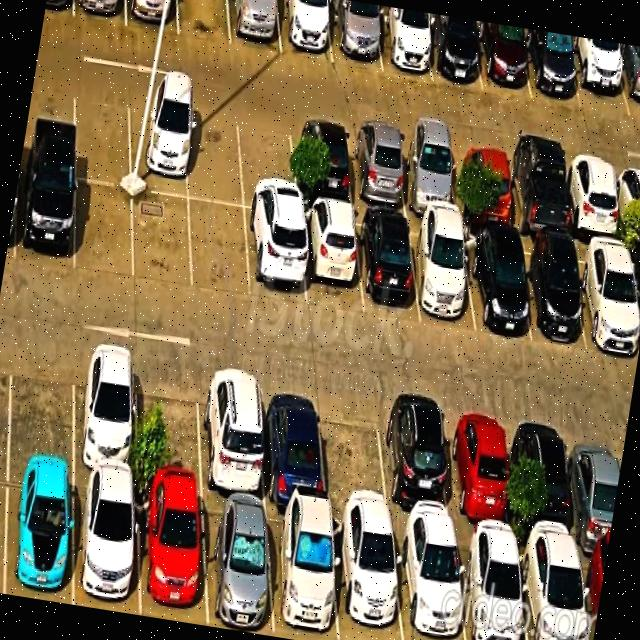empty: (187, 200, 249, 287), (131, 195, 189, 282), (73, 184, 131, 271), (185, 119, 244, 203), (74, 98, 131, 177), (239, 131, 297, 205), (23, 87, 78, 163), (176, 0, 230, 41)
occupied: (327, 522, 403, 640), (266, 519, 340, 636), (391, 533, 468, 640), (202, 514, 275, 624), (71, 494, 142, 605), (197, 404, 265, 519), (69, 382, 141, 489), (11, 157, 76, 274), (7, 486, 74, 598), (136, 506, 207, 611), (261, 407, 328, 518), (501, 150, 574, 251), (8, 376, 76, 484), (136, 394, 204, 500), (455, 550, 529, 640), (521, 550, 593, 640), (405, 232, 475, 324), (518, 253, 589, 342), (503, 440, 573, 529), (463, 243, 531, 334), (441, 433, 510, 522), (321, 418, 386, 512), (246, 200, 307, 295), (575, 262, 640, 351), (378, 428, 449, 509), (357, 225, 420, 314), (134, 102, 191, 200), (303, 213, 364, 304), (567, 445, 619, 549), (450, 149, 512, 234), (562, 164, 621, 251), (291, 133, 354, 211), (348, 141, 407, 222), (520, 30, 579, 107), (400, 144, 456, 223), (422, 14, 480, 86), (568, 39, 628, 108), (474, 21, 529, 92), (327, 0, 385, 66), (375, 7, 432, 73), (276, 0, 331, 57), (229, 0, 284, 44), (576, 561, 605, 640), (609, 174, 640, 245), (126, 0, 179, 30), (618, 43, 640, 114), (73, 0, 126, 28), (633, 267, 640, 354), (45, 0, 75, 12)
